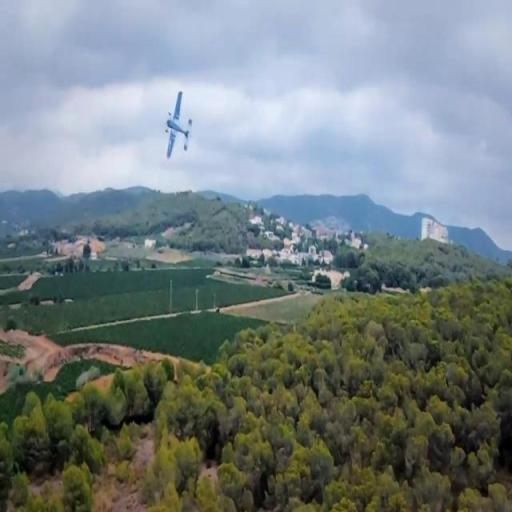uav: (166, 92, 192, 158)
